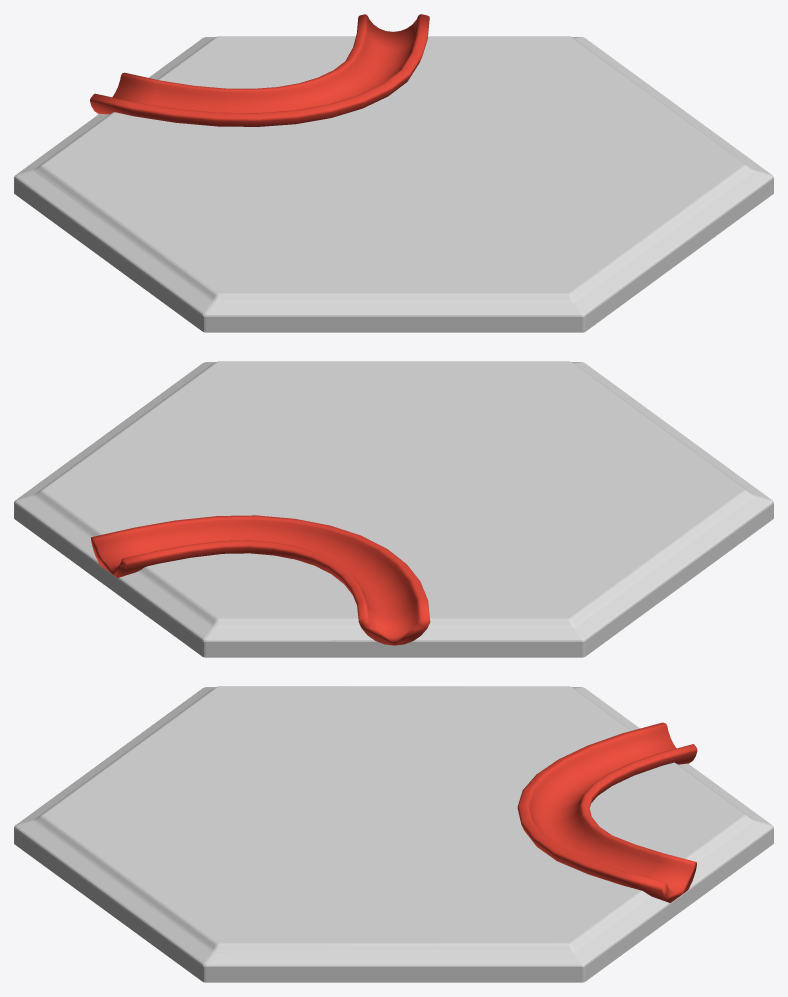
Rendered from tile_1corner.glb.
The picture shows the model from 3 angles, top to bottom: view 1: azimuth 30°, elevation 25°; view 2: azimuth 150°, elevation 25°; view 3: azimuth 270°, elevation 25°; orthographic projection.
Parts seen in each view (by area): view 1: Tile_simple.001; view 2: Tile_simple.001; view 3: Tile_simple.001.
Part boxes in pixels (<box>): Tile_simple.001: <box>14,14,773,332</box>; Tile_simple.001: <box>14,361,773,657</box>; Tile_simple.001: <box>14,686,773,982</box>.
Size of the model in its own units: 1.73 by 0.1159 by 2.
